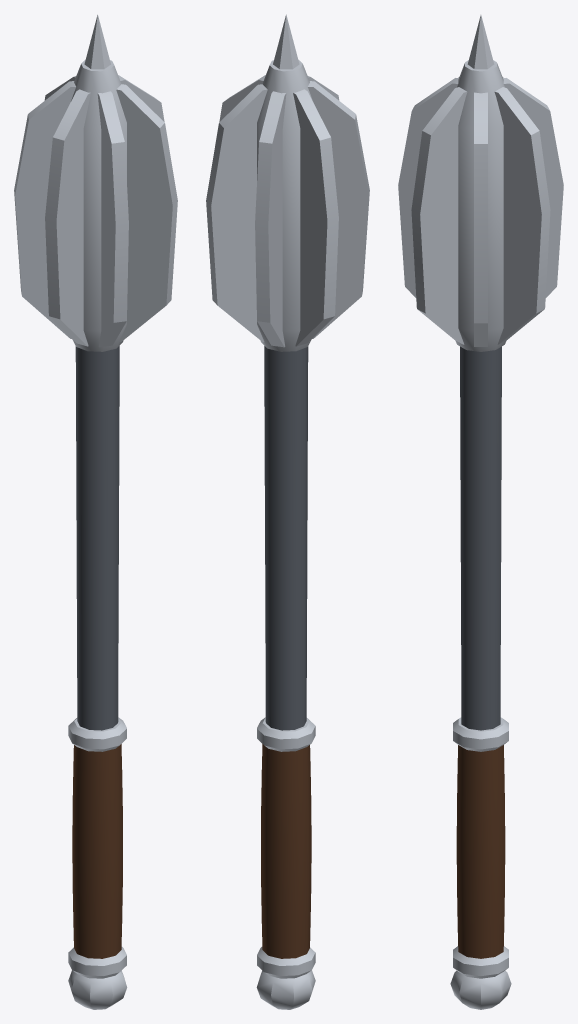
File: mace_flanged.glb
The picture shows the model from 3 angles, left to right: view 1: azimuth 30°, elevation 25°; view 2: azimuth 150°, elevation 25°; view 3: azimuth 270°, elevation 25°; orthographic projection.
Visible parts, largest first — view 1: mace_flanged; view 2: mace_flanged; view 3: mace_flanged.
Part boxes in pixels (x1,y1,x2,y2): mace_flanged: (14,14,177,1009); mace_flanged: (206,14,369,1009); mace_flanged: (398,15,563,1009).
Size of the model in its own units: 0.1162 by 0.788 by 0.1192.
